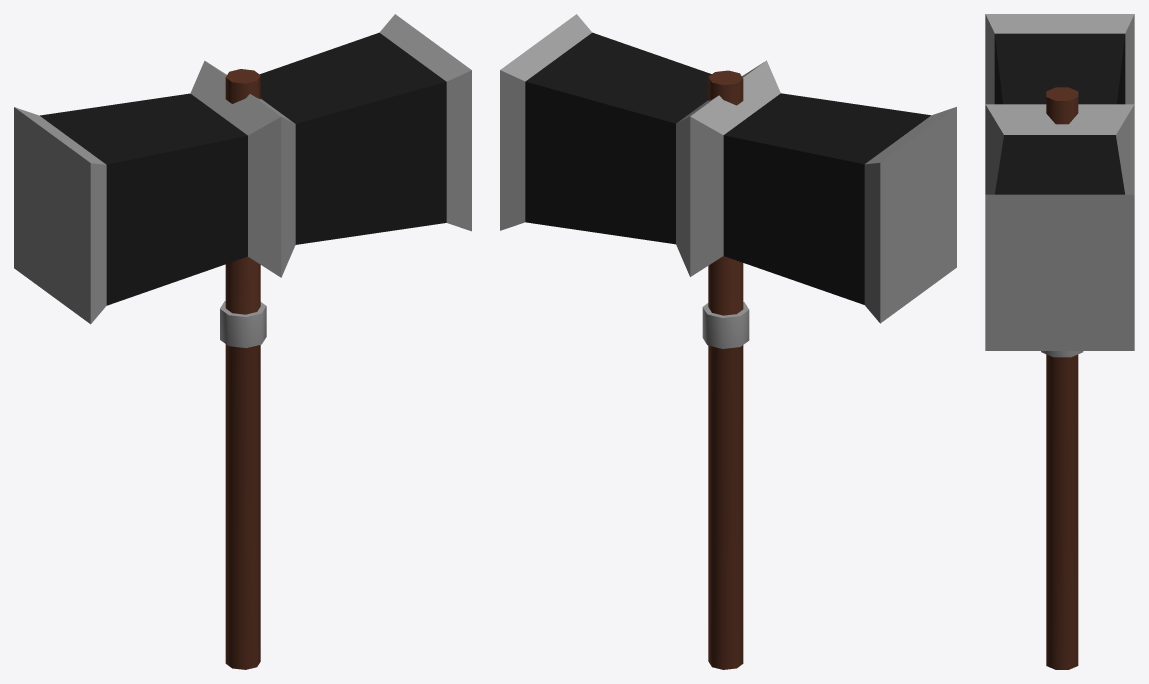
Rendered from hammer.fbx.
3 renders of one model, left to right at view 1: azimuth 30°, elevation 25°; view 2: azimuth 150°, elevation 25°; view 3: azimuth 270°, elevation 25°, orthographic. The views are drawn at different scales.
Visible parts, largest first — view 1: ToolTip, Handle; view 2: ToolTip, Handle; view 3: ToolTip, Handle.
Part boxes in pixels (x1,y1,x2,y2): ToolTip: (14,14,471,324); Handle: (220,69,266,669); ToolTip: (500,14,956,323); Handle: (702,70,749,669); ToolTip: (985,14,1134,350); Handle: (1041,87,1083,669).
Size of the model in its own units: 268 by 394 by 93.61.
